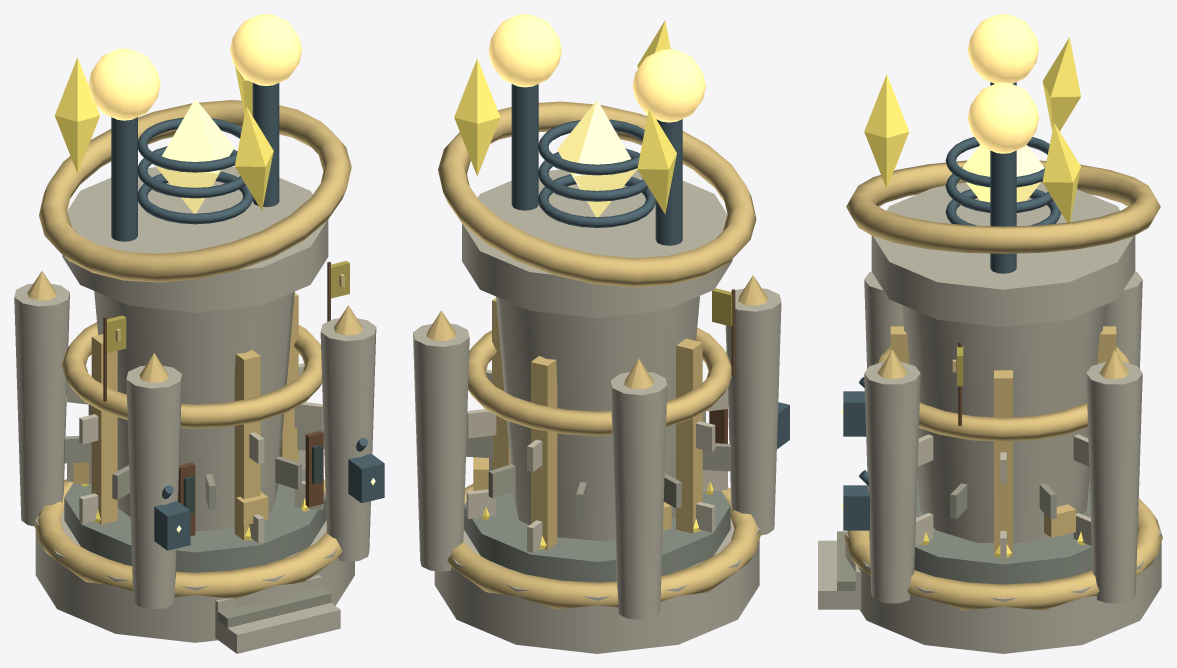
File: tower-thunder-3-base.glb
3 renders of one model, left to right at view 1: azimuth 30°, elevation 25°; view 2: azimuth 150°, elevation 25°; view 3: azimuth 270°, elevation 25°, orthographic. The views are drawn at different scales.
Visible parts, largest first — view 1: Foundation, Turret, thunder-L3-base; view 2: Foundation, Turret, thunder-L3-base; view 3: Foundation, Turret, thunder-L3-base.
Boxes of the visible parts, x1,y1,x2,y2 form: Foundation: (14, 261, 384, 653); Turret: (39, 14, 351, 312); thunder-L3-base: (35, 469, 354, 642); Foundation: (413, 275, 789, 619); Turret: (438, 14, 756, 318); thunder-L3-base: (434, 490, 759, 653); Foundation: (818, 271, 1162, 610); Turret: (846, 14, 1160, 327); thunder-L3-base: (845, 479, 1161, 653).
Bounding box in the file's own units: 1.69 × 3.14 × 1.83.
